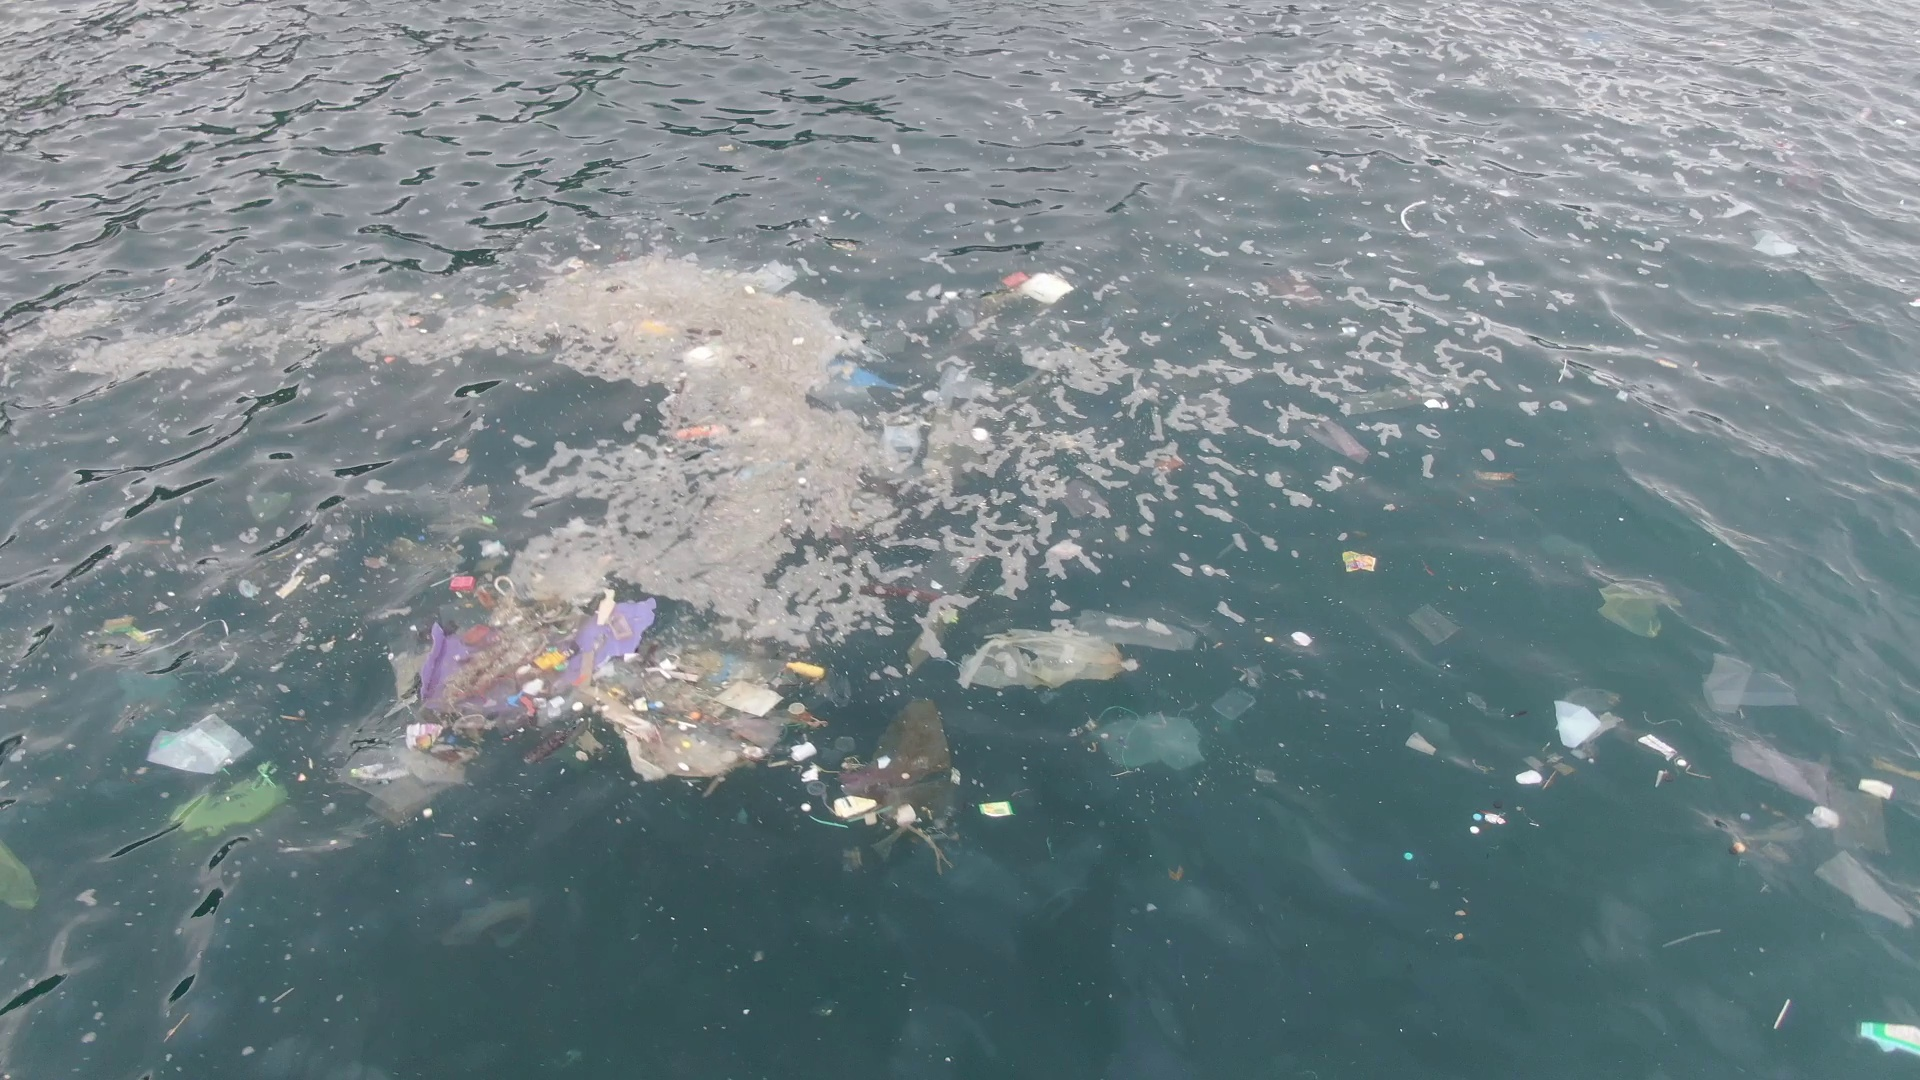garbage: (352, 551, 967, 886), (964, 608, 1265, 774), (1702, 649, 1896, 862), (1501, 684, 1712, 793), (145, 709, 287, 835), (96, 613, 239, 673), (1586, 568, 1683, 642), (823, 351, 905, 402), (1303, 410, 1371, 467), (3, 835, 41, 920), (1857, 1015, 1920, 1060), (1004, 272, 1075, 310), (1062, 481, 1109, 522), (671, 419, 735, 442), (1338, 547, 1379, 578)
